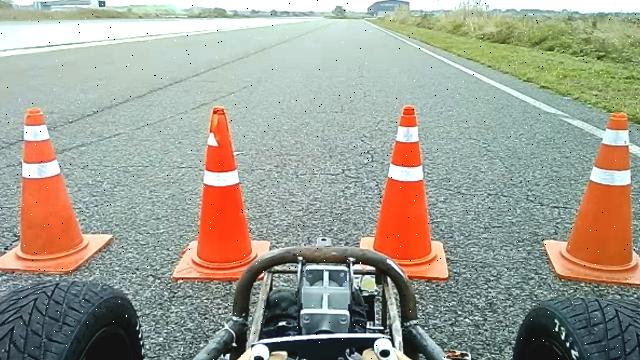red cone: (0, 106, 114, 275), (170, 105, 268, 282), (544, 110, 640, 287), (358, 104, 448, 282)
